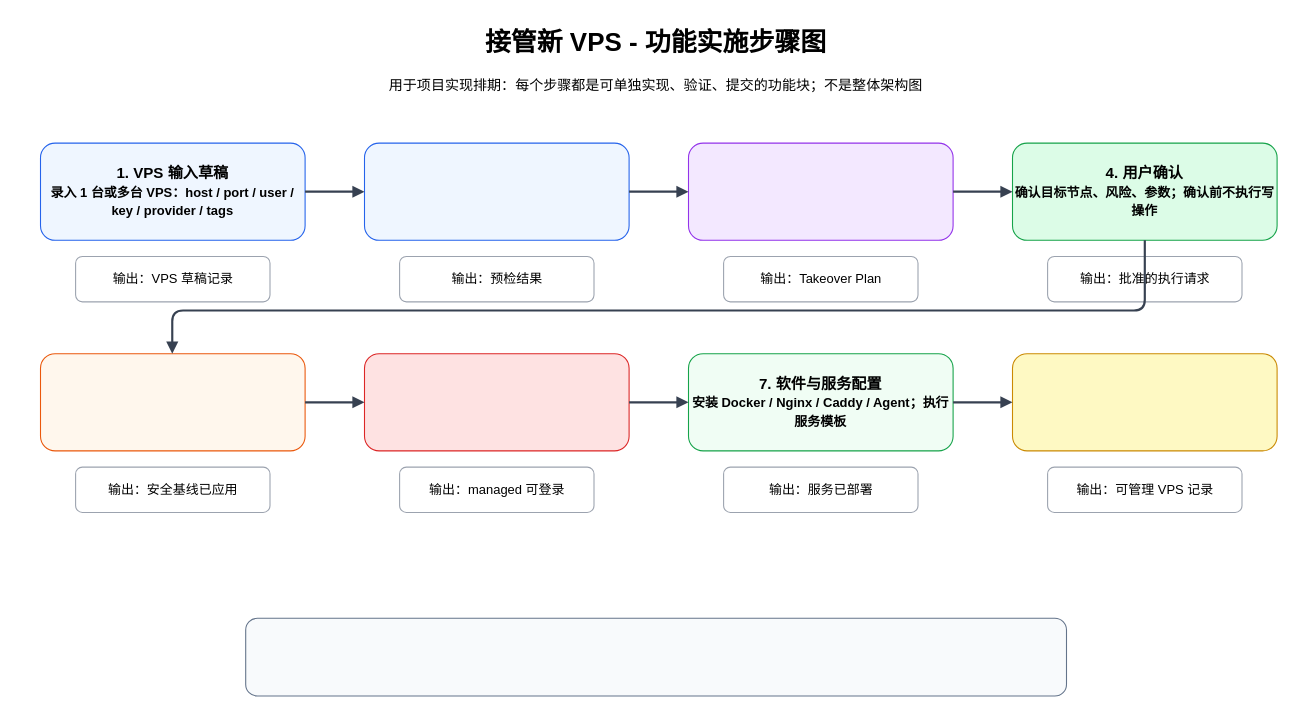
The diagram is 1311 pixels wide and 715 high, and some of its shapes have lost their labels. Each missing label, with the centre of its shape:
2. SSH 预检 只读验证：连通性、认证、OS family、sudo 能力: point 496,191
3. 生成执行计划 展示将修改什么：用户、SSH、Firewall、软件、服务模板: point 820,191
5. 接管与安全基线 创建 managed 用户、配置 key、SSH 策略、Firewall 基线: point 172,402
6. Managed 通道验证 用新用户、新端口、新 key 登录；防止 SSH 锁死: point 496,402
8. 验证、入库、审计 健康检查；写入 Node/Group/Service；保存日志和审计结果: point 1144,402
实现原则：先把每一步做成可复跑、可验证、可记录的最小功能。单台 VPS 是验证单元，多台 VPS 是同一流程的批量目标。: point 655,656
